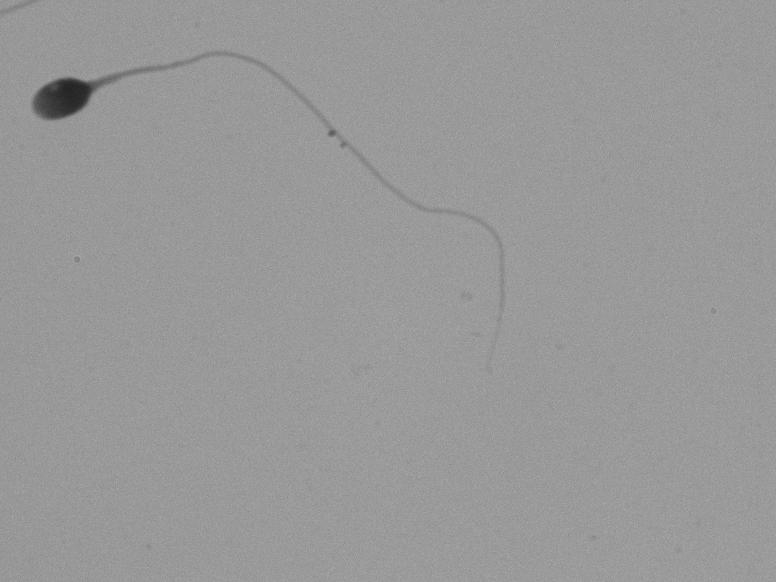Normal: (25, 32, 526, 366)
